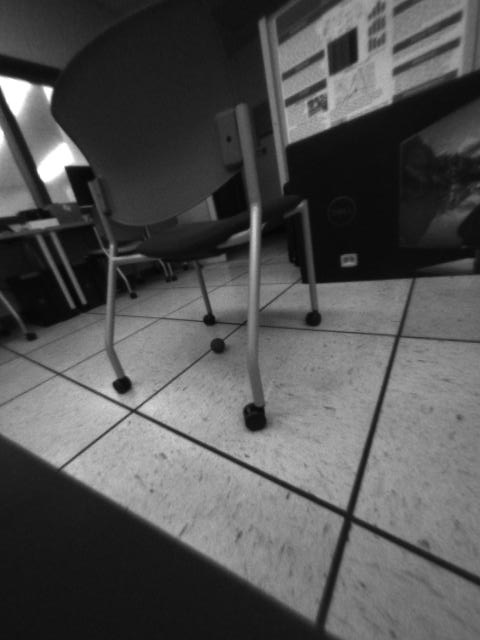dogtoy: (204, 330, 232, 358)
